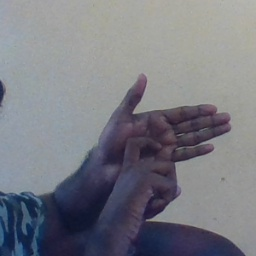R: (95, 71, 235, 213)
